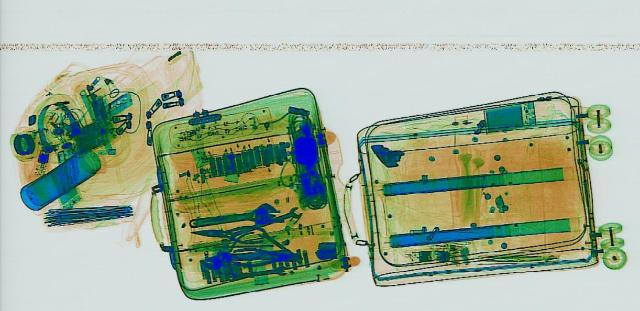Pliers: (186, 221, 266, 244), (230, 246, 300, 265)
Wrench: (212, 204, 308, 240), (180, 201, 284, 232), (194, 245, 292, 269), (225, 265, 289, 280)
